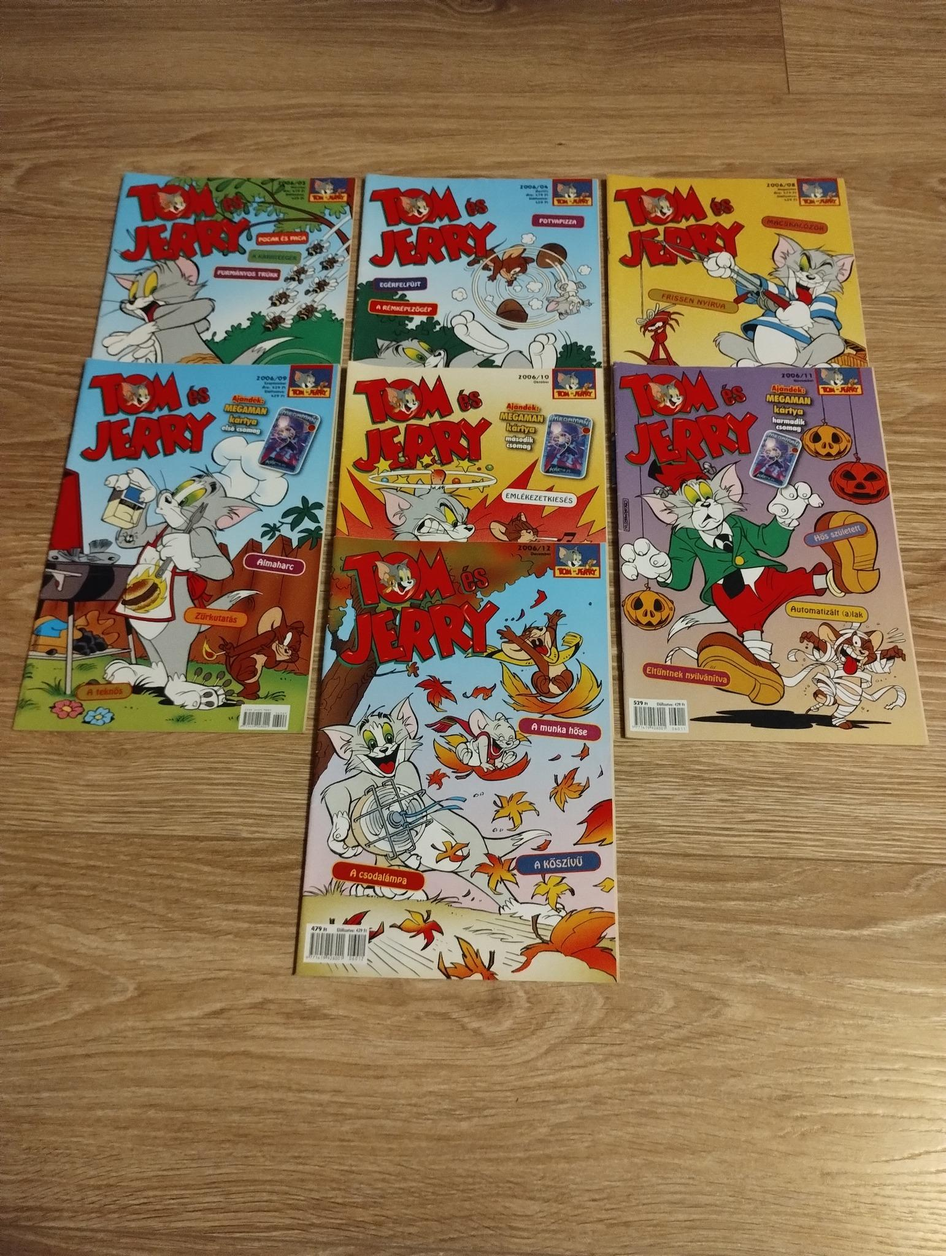comic: (297, 534, 630, 985), (15, 340, 339, 753), (613, 355, 925, 751), (335, 358, 611, 548), (93, 173, 353, 366), (351, 175, 603, 372), (607, 176, 866, 367)
